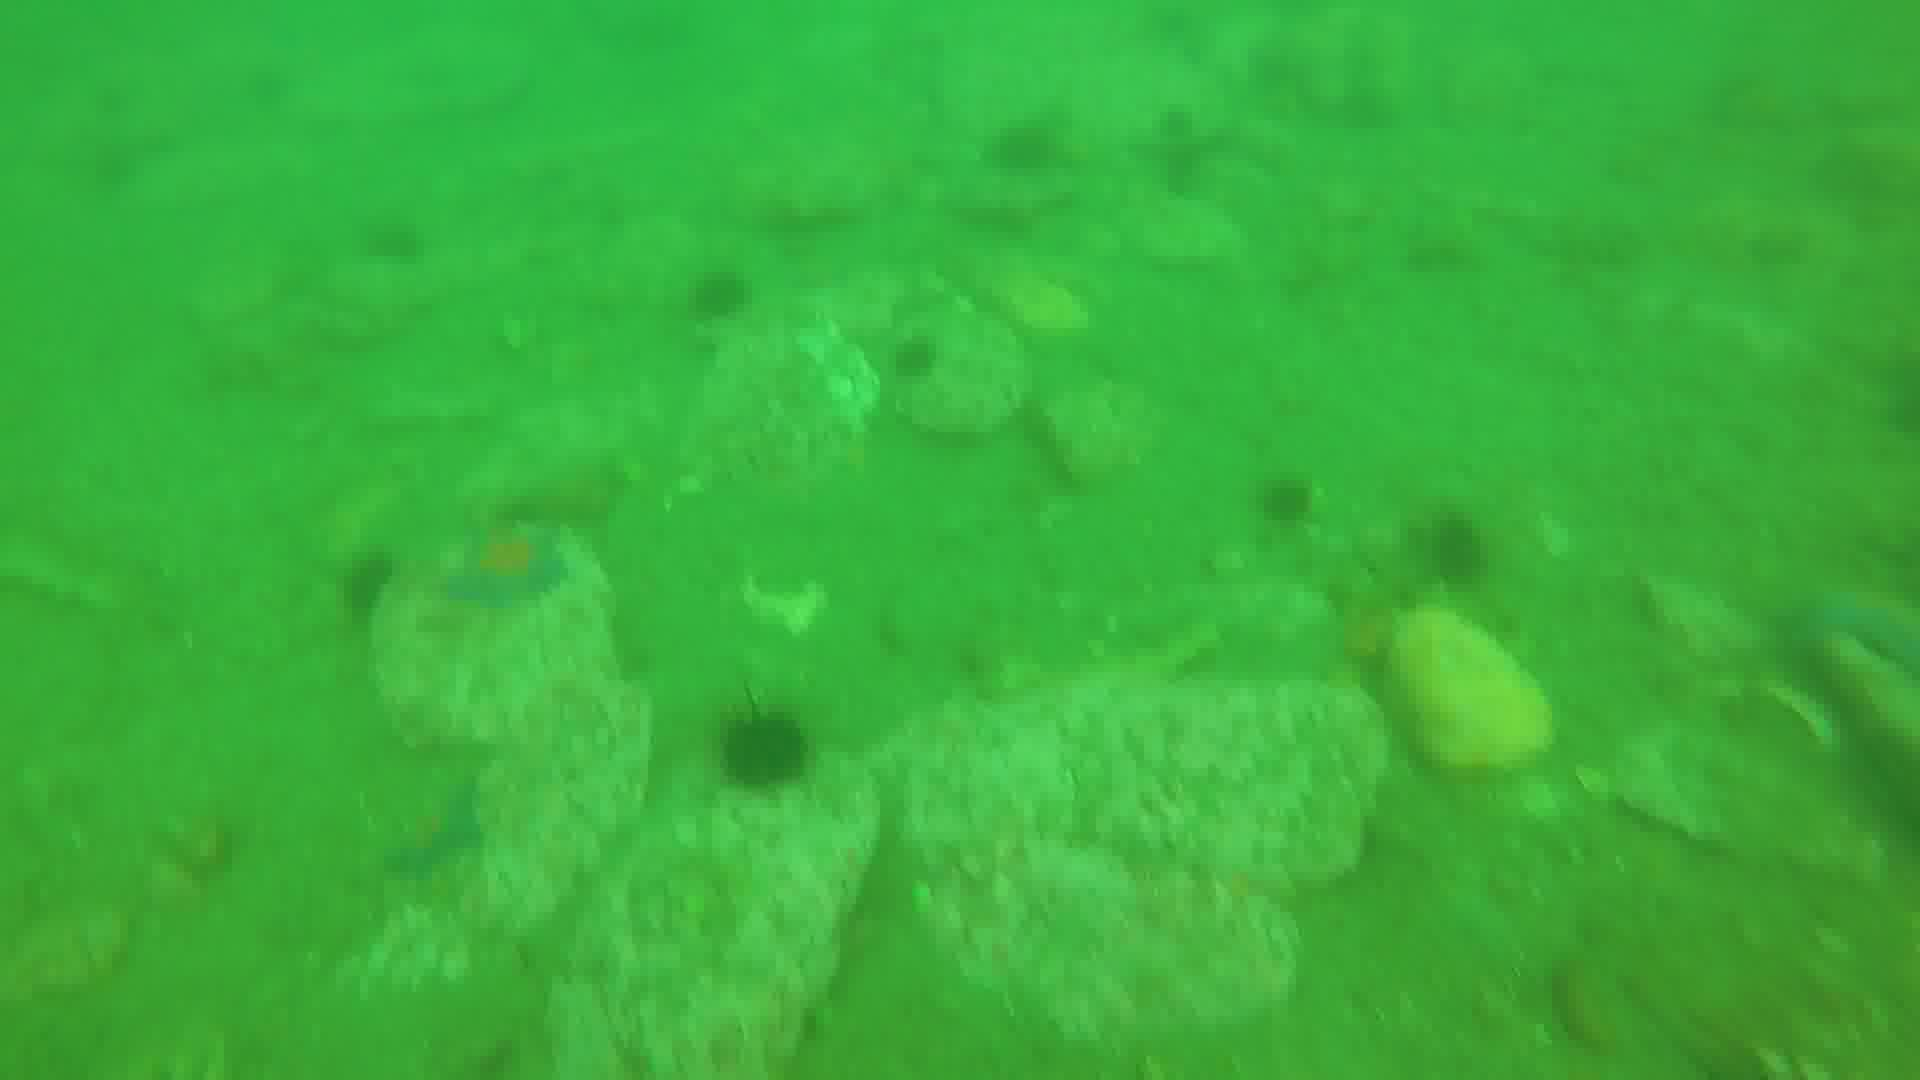echinus: (723, 709, 814, 791), (1418, 513, 1498, 593), (878, 326, 957, 386), (1250, 469, 1321, 527), (993, 115, 1059, 174), (682, 262, 748, 320)
starfish: (388, 775, 491, 884), (454, 527, 571, 613)
